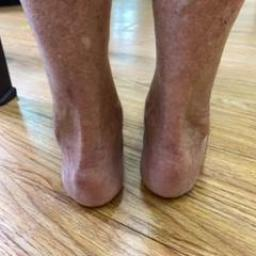Back View -Both Feet-: (32, 63, 236, 215)
